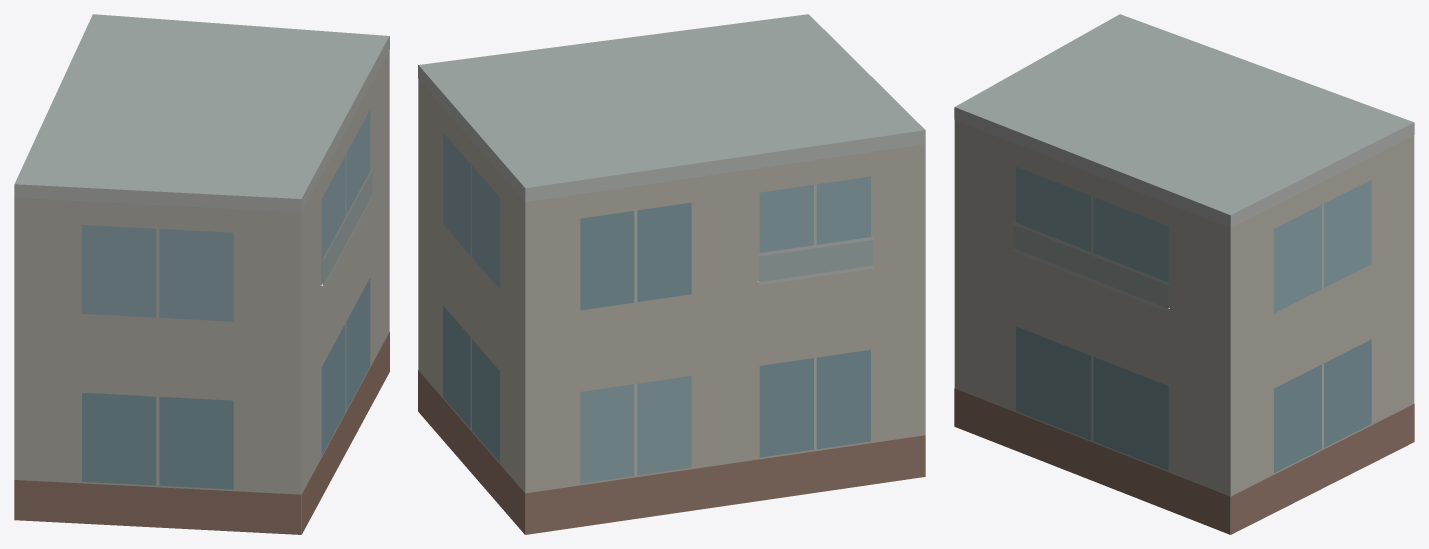
The model's file is survey-upis-32818186.glb.
The picture shows the model from 3 angles, left to right: view 1: azimuth 30°, elevation 25°; view 2: azimuth 150°, elevation 25°; view 3: azimuth 270°, elevation 25°; orthographic projection. The views are drawn at different scales.
Parts seen in each view (by area): view 1: survey-upis-32818186.tmp; view 2: survey-upis-32818186.tmp; view 3: survey-upis-32818186.tmp.
Part boxes in pixels (box(x1,y1,x2,y2)): survey-upis-32818186.tmp: box(14, 14, 389, 534); survey-upis-32818186.tmp: box(418, 14, 925, 534); survey-upis-32818186.tmp: box(954, 14, 1414, 534).
Size of the model in its own units: 8.25 by 6.1 by 7.96.
